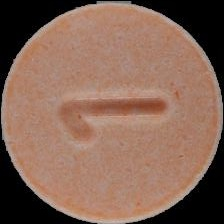68788-7400: (0, 0, 224, 224)
